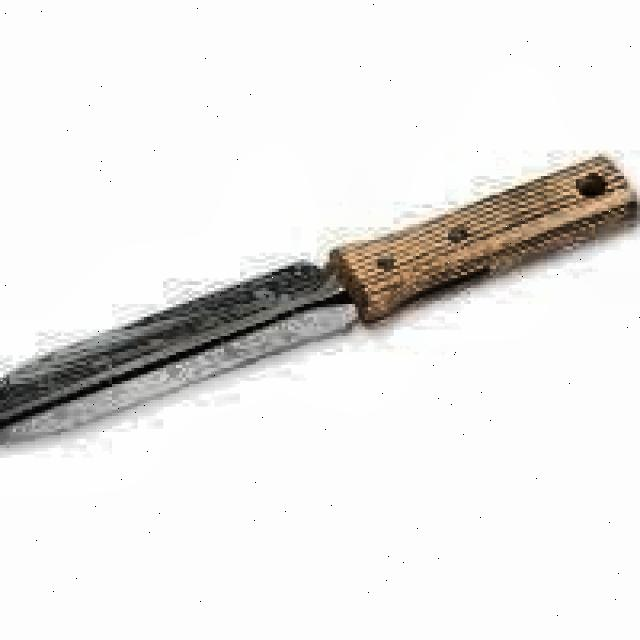knife: (0, 160, 640, 454)
